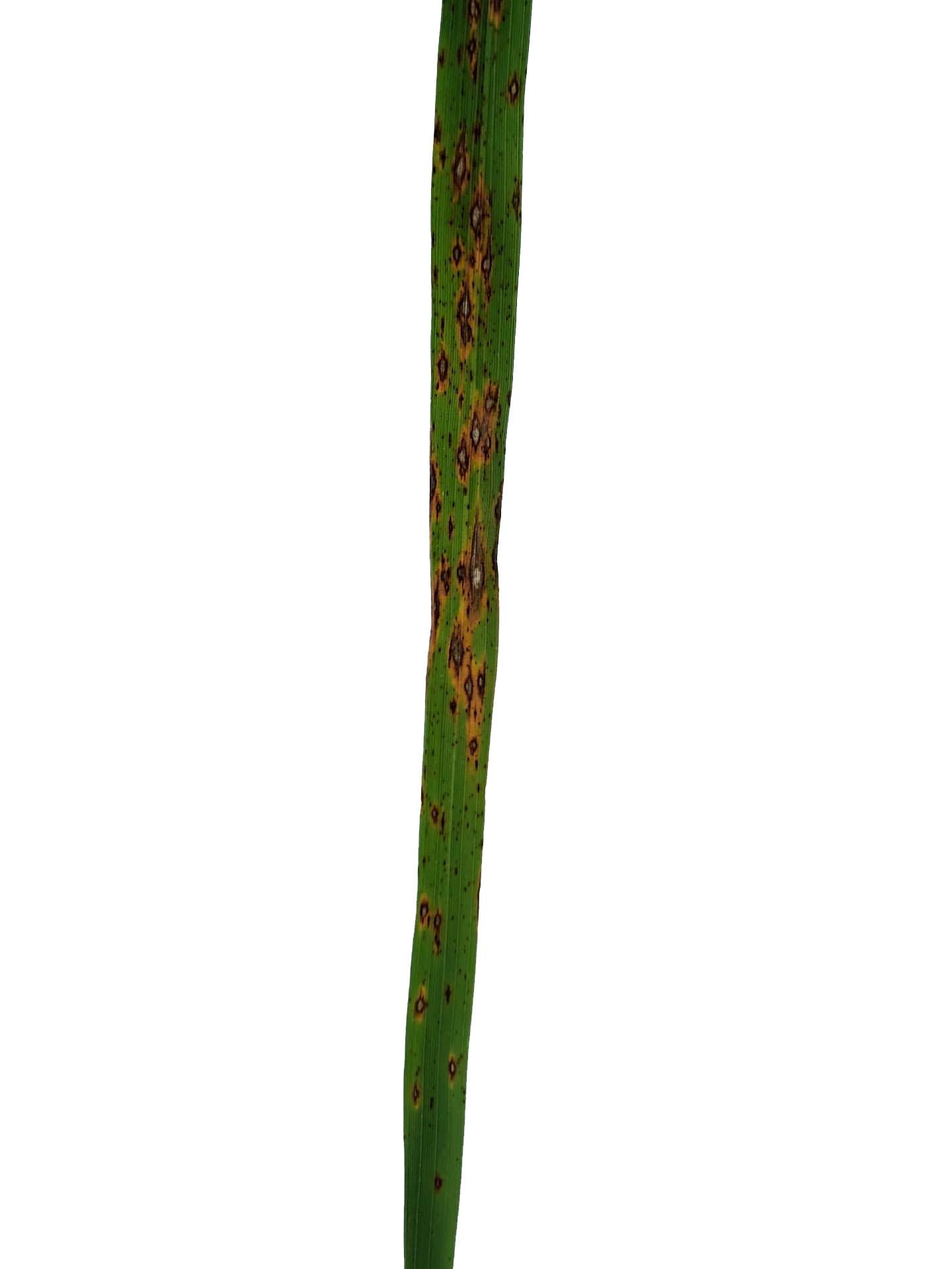Rice blast: (456, 503, 488, 614), (452, 269, 477, 364), (445, 615, 469, 684), (449, 130, 471, 198), (476, 228, 495, 290), (481, 372, 504, 422), (431, 575, 445, 657), (452, 428, 470, 490), (434, 339, 454, 394), (429, 455, 445, 521), (469, 190, 492, 235), (458, 666, 476, 719), (426, 800, 451, 838), (469, 405, 485, 457), (447, 228, 468, 266), (438, 548, 452, 603), (411, 985, 433, 1018), (508, 177, 522, 226), (506, 67, 522, 109), (475, 655, 488, 706), (466, 2, 485, 36), (466, 35, 479, 81), (447, 1047, 460, 1088), (434, 907, 444, 958), (482, 422, 493, 466), (466, 733, 481, 764), (487, 0, 504, 27), (418, 897, 432, 929), (431, 1167, 445, 1199), (410, 1077, 420, 1104)
